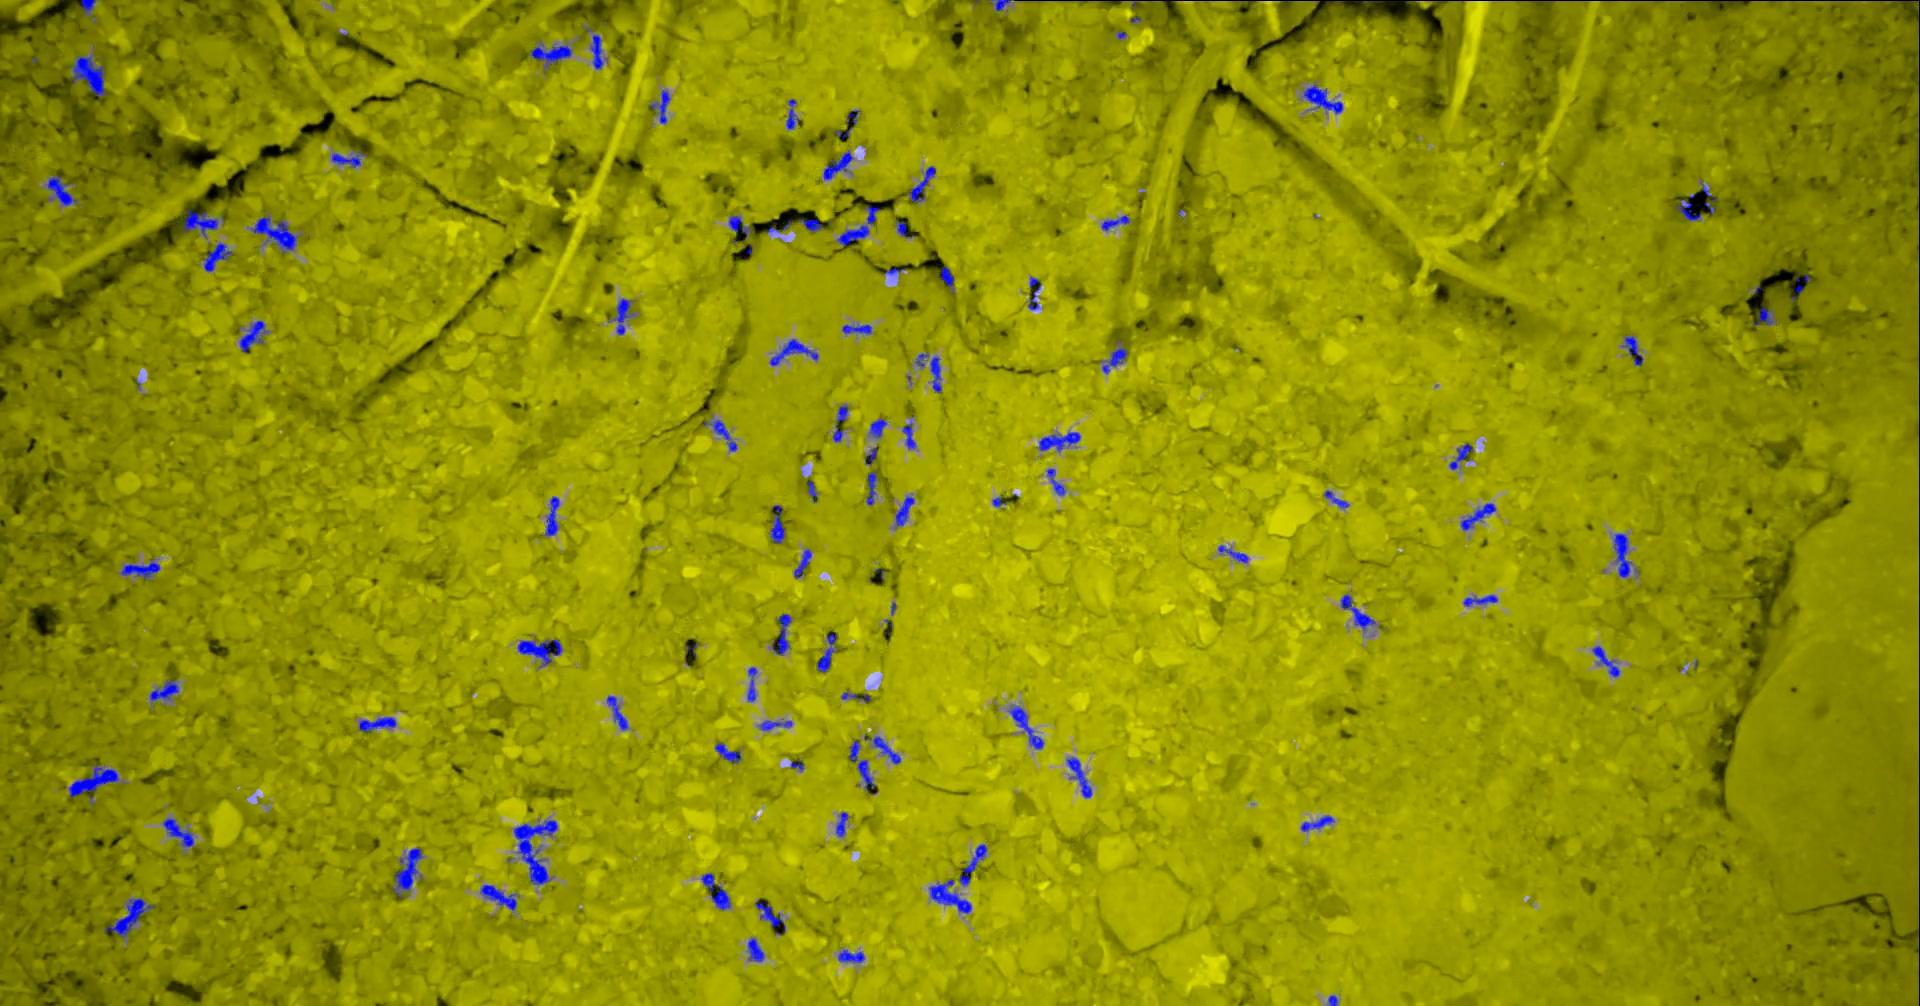ant: (105, 897, 155, 937), (839, 203, 881, 246), (251, 216, 298, 253), (70, 765, 119, 798), (72, 55, 107, 102), (850, 739, 879, 794), (1010, 705, 1045, 749), (394, 847, 424, 898), (930, 879, 973, 913), (1342, 593, 1377, 633), (771, 338, 820, 365), (519, 639, 563, 667), (1303, 84, 1343, 113), (960, 843, 988, 885), (184, 210, 225, 238), (916, 352, 943, 392), (703, 419, 738, 451), (702, 873, 731, 909), (1068, 756, 1093, 796), (1462, 502, 1497, 530), (532, 43, 573, 67), (164, 817, 196, 847), (756, 901, 787, 931), (910, 165, 937, 201), (481, 884, 518, 909), (1592, 645, 1622, 677), (241, 320, 269, 353), (1103, 338, 1129, 373), (824, 150, 855, 179), (50, 174, 79, 205), (1040, 431, 1082, 451), (122, 558, 161, 579), (818, 633, 839, 671), (204, 243, 234, 271), (773, 614, 792, 655), (874, 735, 902, 763), (1615, 533, 1633, 577), (650, 89, 672, 123), (608, 695, 629, 729), (837, 111, 861, 138), (151, 680, 180, 702), (1450, 443, 1474, 469), (546, 495, 561, 535), (1624, 335, 1644, 365), (616, 298, 632, 334), (590, 34, 607, 69), (897, 495, 916, 525), (834, 405, 850, 441), (1219, 544, 1250, 561), (1048, 467, 1067, 495), (1702, 182, 1718, 213), (333, 151, 367, 166), (1677, 198, 1702, 220), (730, 215, 752, 239), (795, 549, 813, 578), (716, 742, 742, 762), (772, 506, 786, 542), (361, 716, 397, 730), (1302, 815, 1335, 831), (1029, 276, 1043, 309), (1324, 490, 1350, 508), (787, 98, 801, 130), (759, 718, 794, 730), (1103, 215, 1131, 230), (749, 937, 766, 962), (942, 265, 956, 293), (1755, 306, 1775, 325), (1465, 594, 1498, 606), (903, 422, 917, 448), (897, 218, 916, 238), (799, 218, 824, 232), (869, 471, 879, 506), (842, 690, 872, 701), (1796, 273, 1812, 293), (837, 810, 850, 836), (839, 949, 865, 962), (749, 667, 758, 701), (843, 324, 872, 334), (871, 419, 888, 437), (990, 0, 1013, 11), (83, 0, 97, 17), (809, 480, 819, 502), (866, 447, 879, 464), (1688, 0, 1745, 1), (1919, 137, 1920, 188)
